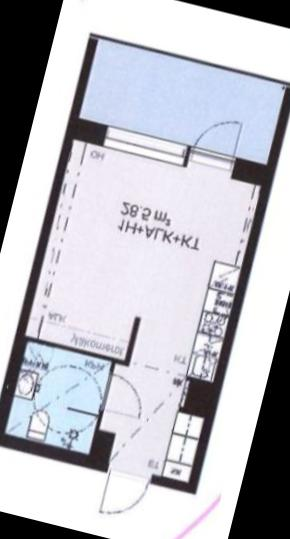door: (183, 106, 246, 174), (93, 460, 156, 525), (95, 369, 154, 428)
window: (95, 117, 192, 173)
